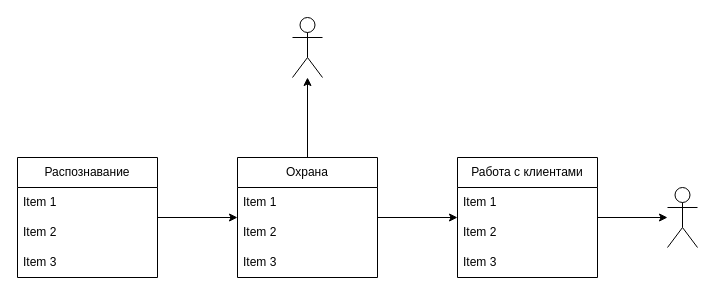
Image size: 720x295. Some labels were removed from this diagram. The centre of each missing label's shape, as x and y in pixels:
Клиент: (682,217)
Охранник: (307,47)
